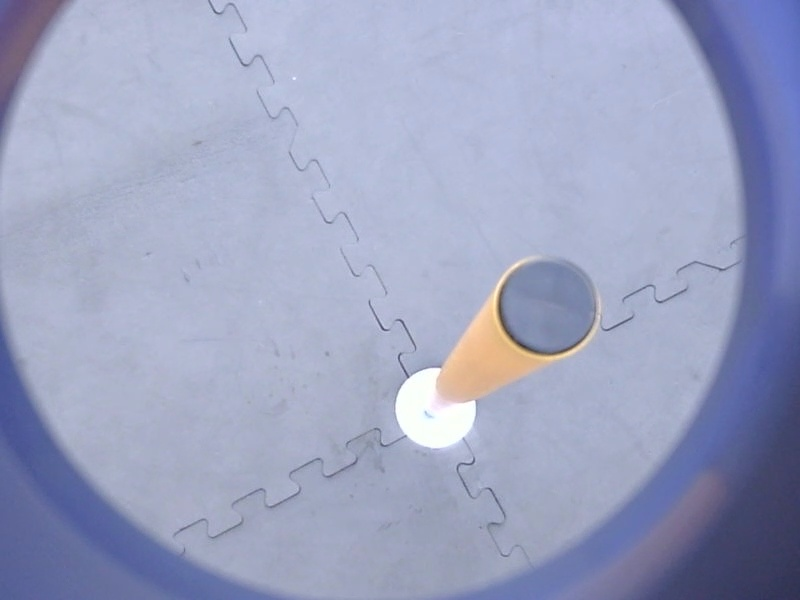tip: (490, 250, 605, 365)
